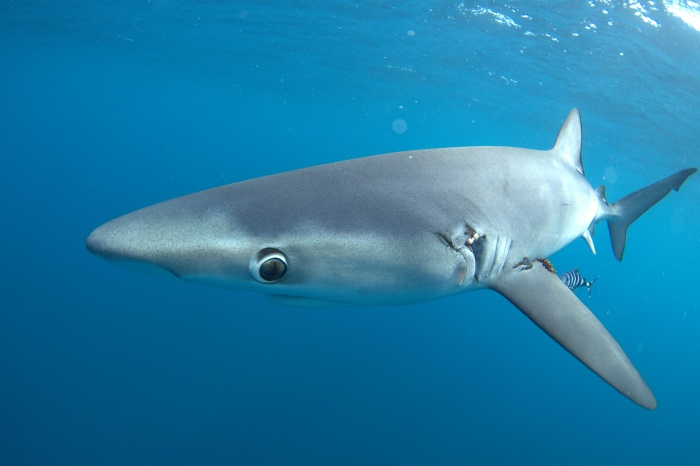Azul: (81, 103, 700, 432)
